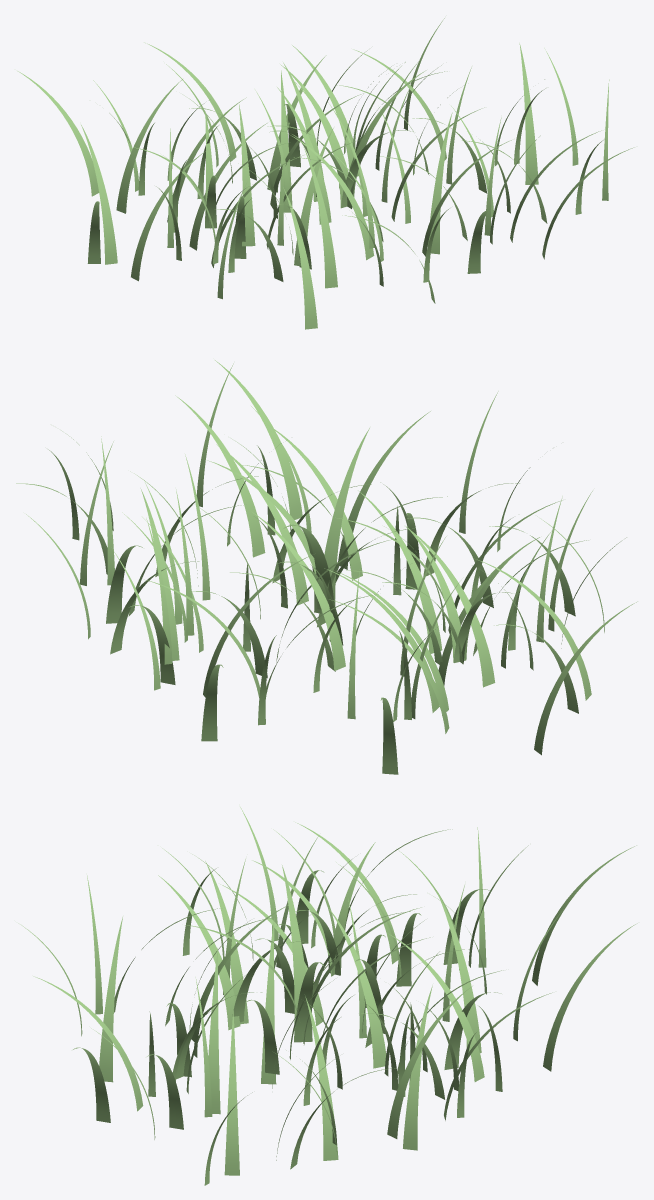
The model's file is grass-only.fbx.
The picture shows the model from 3 angles, top to bottom: view 1: azimuth 30°, elevation 25°; view 2: azimuth 150°, elevation 25°; view 3: azimuth 270°, elevation 25°; orthographic projection. The views are drawn at different scales.
Visible parts, largest first — view 1: plant_2; view 2: plant_2; view 3: plant_2.
Part boxes in pixels (x1=…): plant_2: x1=17, y1=18, x2=634, y2=329; plant_2: x1=16, y1=360, x2=637, y2=774; plant_2: x1=18, y1=807, x2=637, y2=1185.
Bounding box in the file's own units: 35.81 × 9.89 × 33.58.
